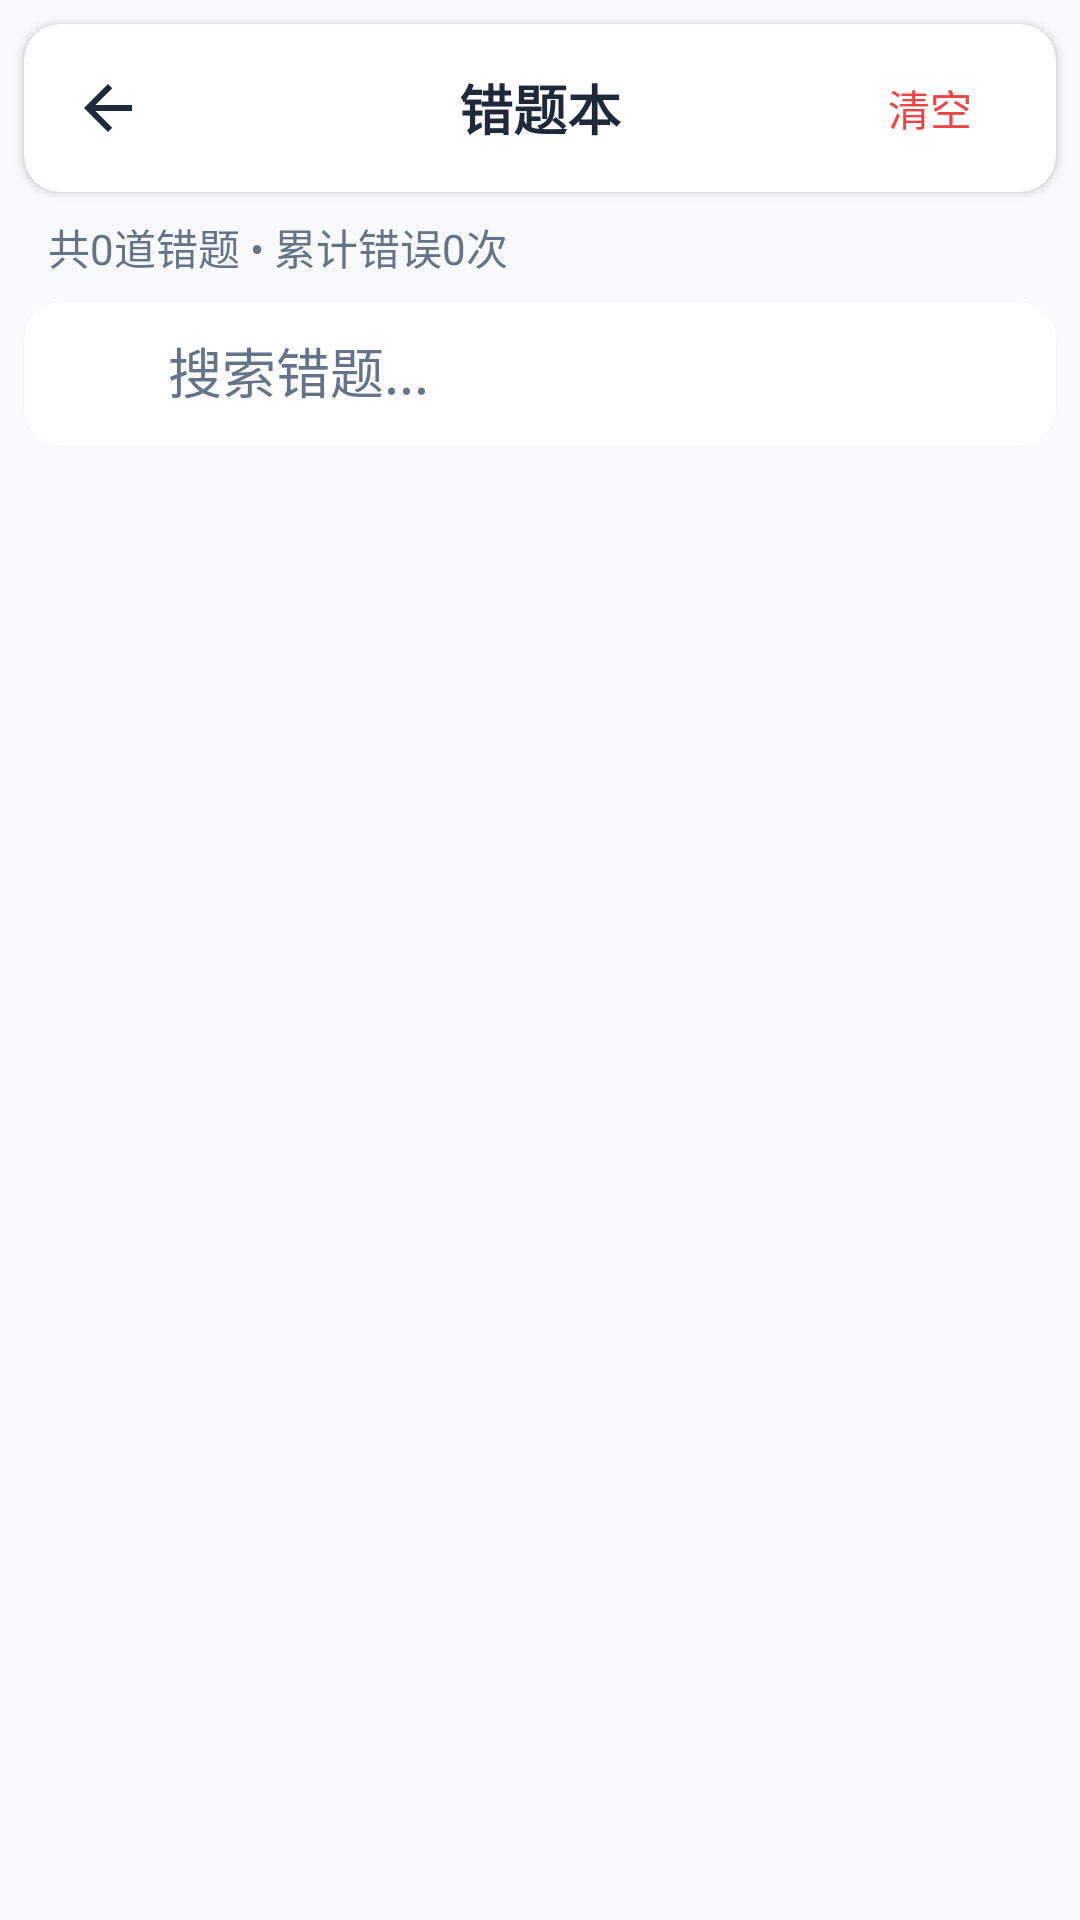

Locate icon controls on the screen. Image size 1080x1920, boxes as (x1=x1, y1=y1, x2=x2, y2=y2).
返回: (x1=84, y1=84, x2=132, y2=132)
